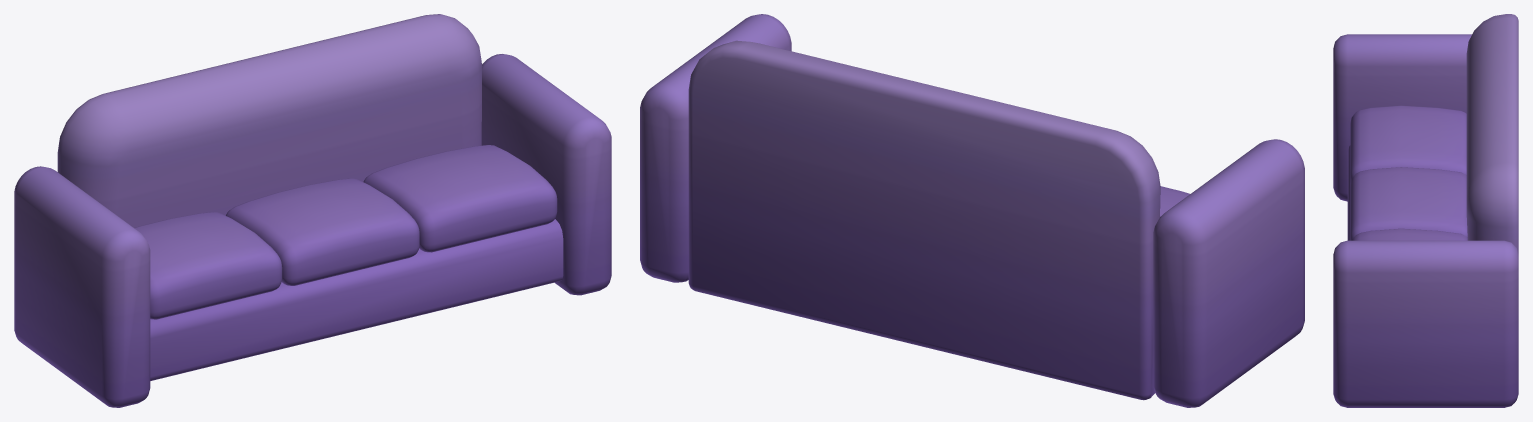
Rendered from Couch_06.glb.
3 views of the same model, side by side, from view 1: azimuth 30°, elevation 25°; view 2: azimuth 150°, elevation 25°; view 3: azimuth 270°, elevation 25° (orthographic). The views are drawn at different scales.
Parts seen in each view (by area): view 1: Couch_06; view 2: Couch_06; view 3: Couch_06.
Boxes of the visible parts, x1,y1,x2,y2 form: Couch_06: (14,14,611,407); Couch_06: (640,14,1304,407); Couch_06: (1333,14,1518,407).
Bounding box in the file's own units: 2.21 × 0.95 × 0.765.
Materials: 1 (1 with a texture image).
